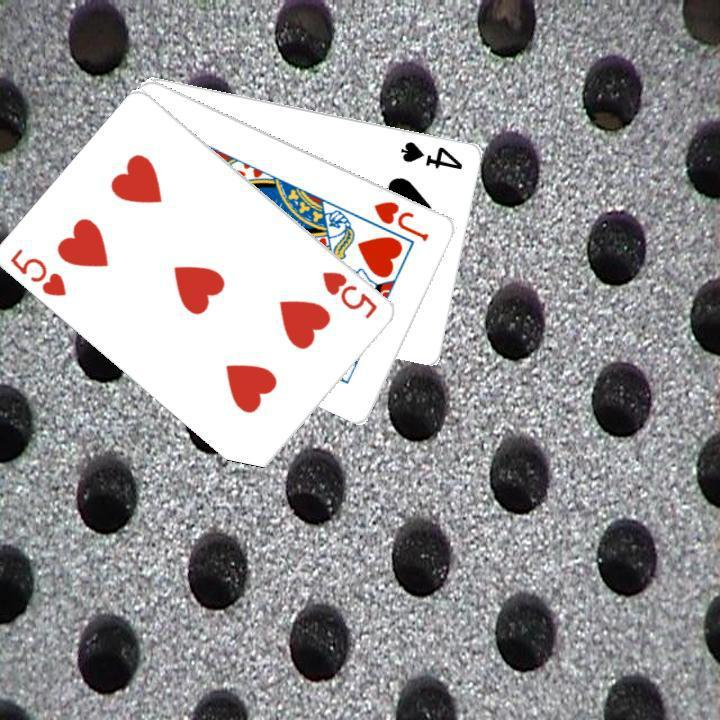4: (397, 136, 465, 171)
5: (6, 244, 70, 299), (318, 266, 381, 321)
J: (370, 196, 431, 243)
